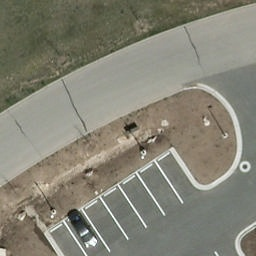car: (67, 212, 100, 250)
